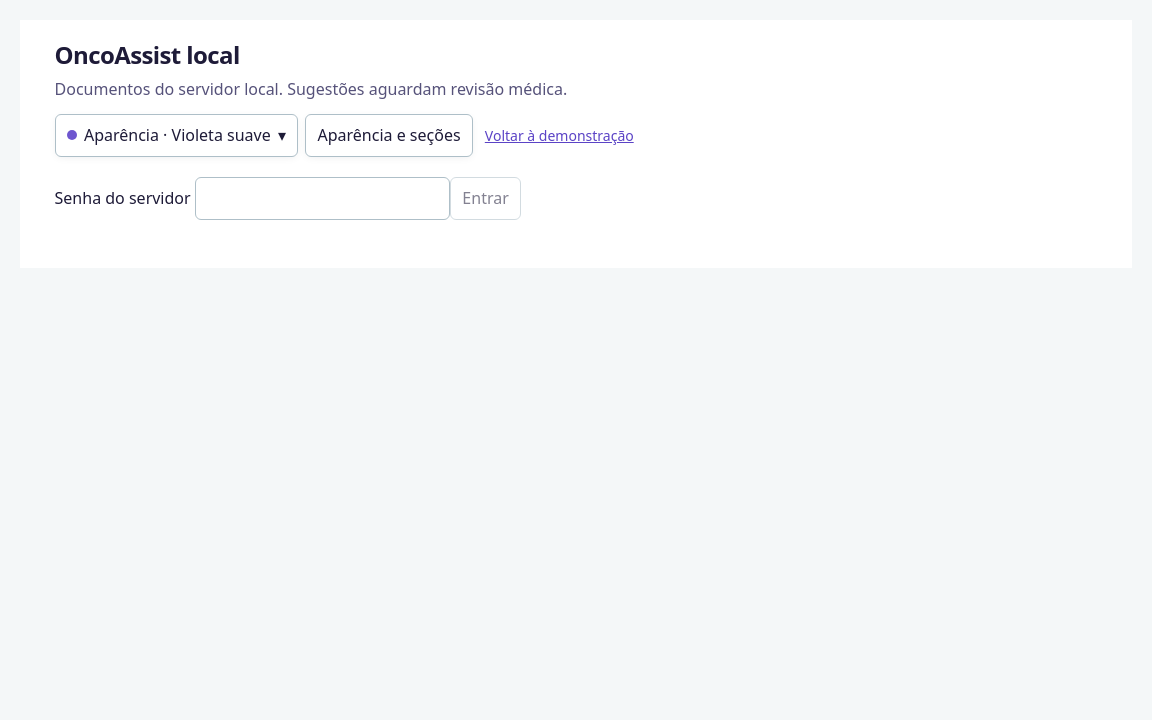
navegação com transcrição não salva › expiração forçada limpa texto sem pedir confirmação
Type "senha-sintetica-para-teste" into the password field labelled "Senha do servidor" at (322, 198), box x1=195 y1=177 x2=450 y2=220
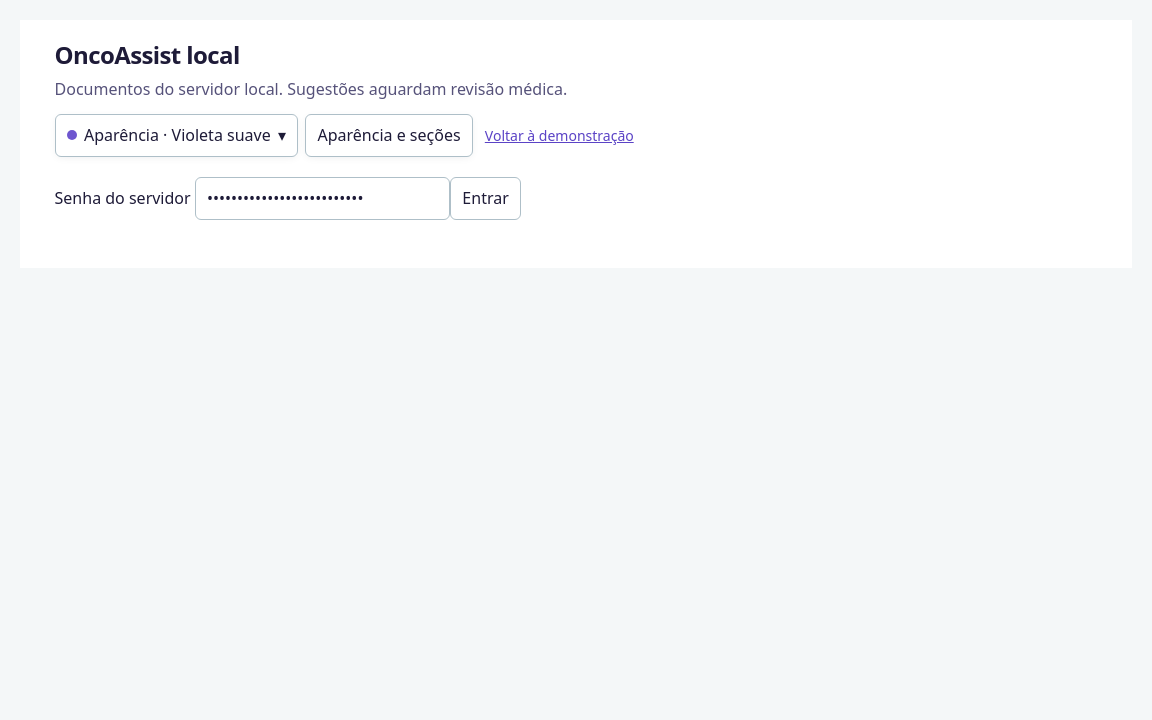
Click the button "Entrar" at (486, 198), box x1=450 y1=177 x2=521 y2=220
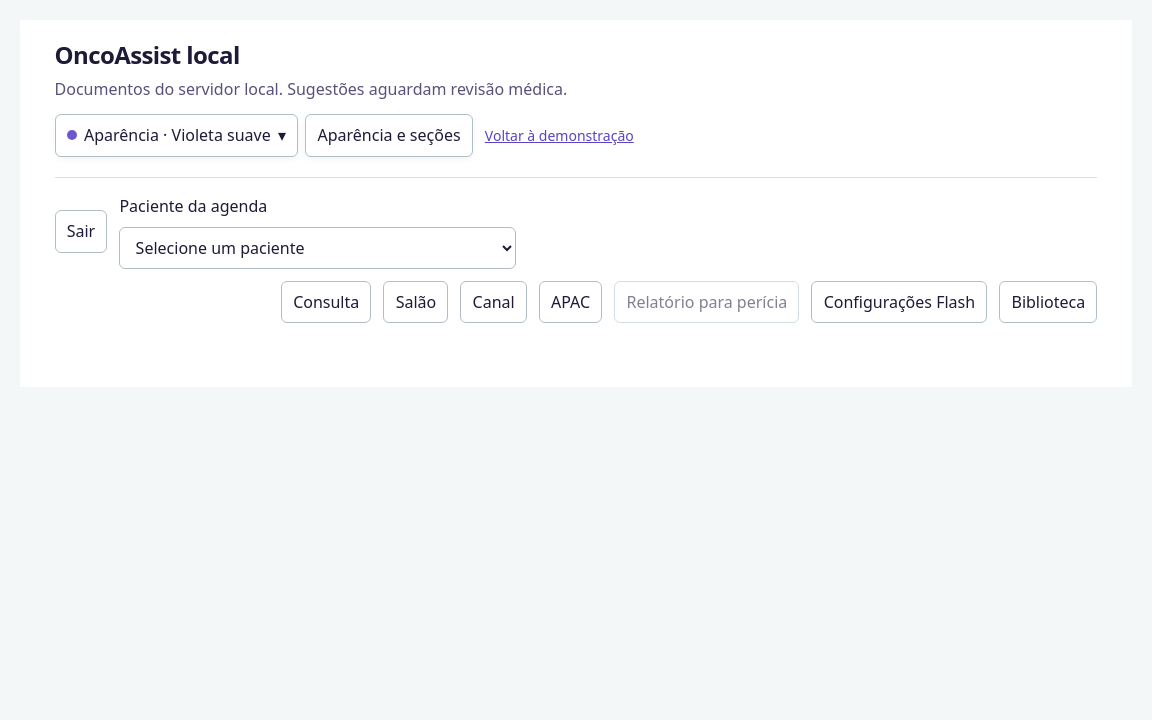
Select "11:00 — Paciente Teste 05" in the dropdown labelled "Paciente da agenda" at (318, 248), box x1=119 y1=227 x2=516 y2=269
(page scrolled)
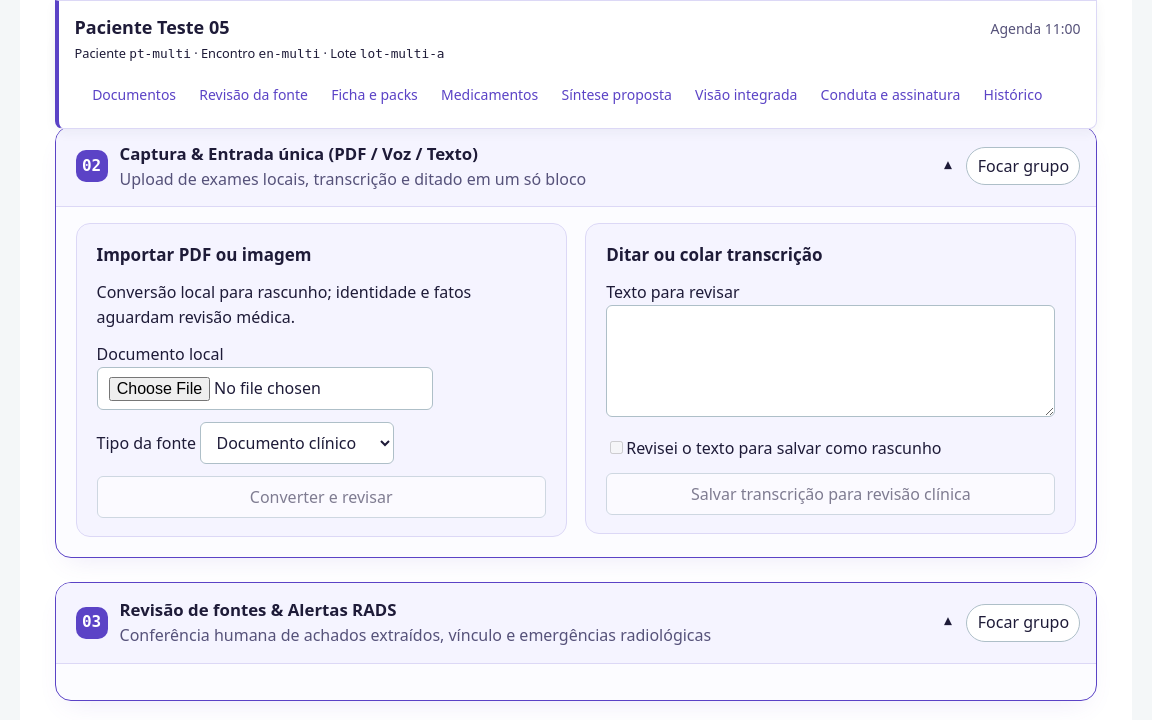
expect the text box named "Texto da transcrição" is shown: met
Type "texto sintético confidencial" into the text box named "Texto da transcrição" at (831, 361), box x1=606 y1=305 x2=1056 y2=417
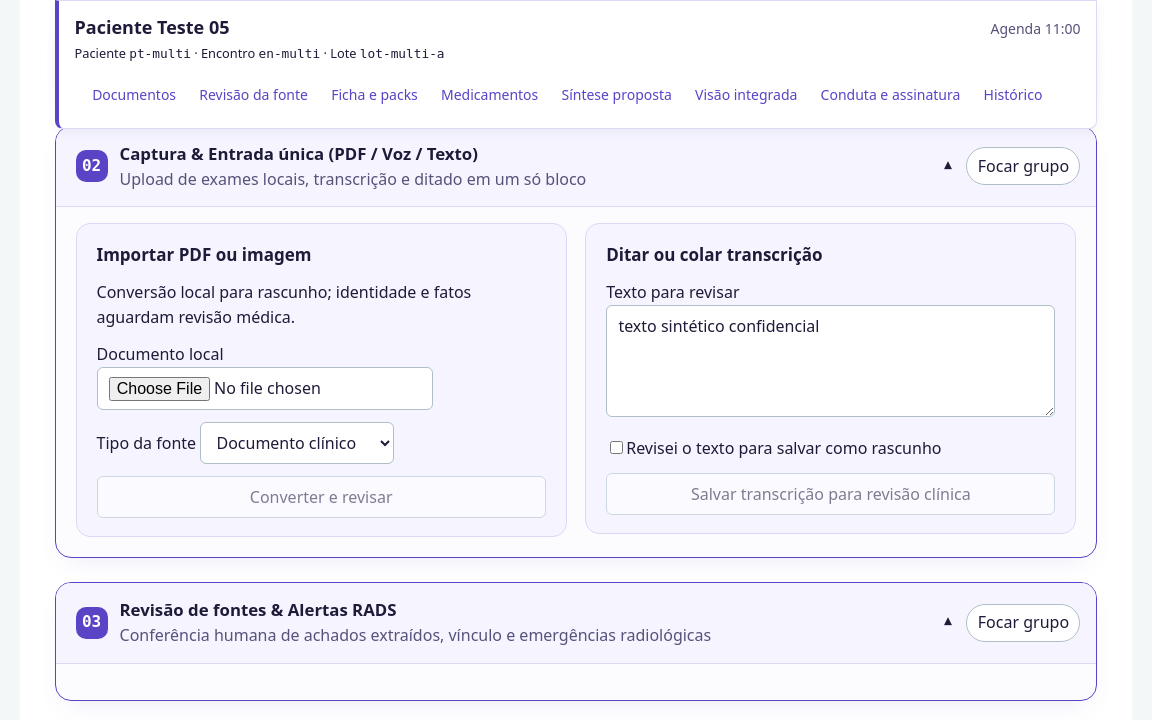
Click the checkbox labelled "Revisei o texto para salvar como rascunho" at (617, 447), box x1=610 y1=441 x2=623 y2=454
(page scrolled)
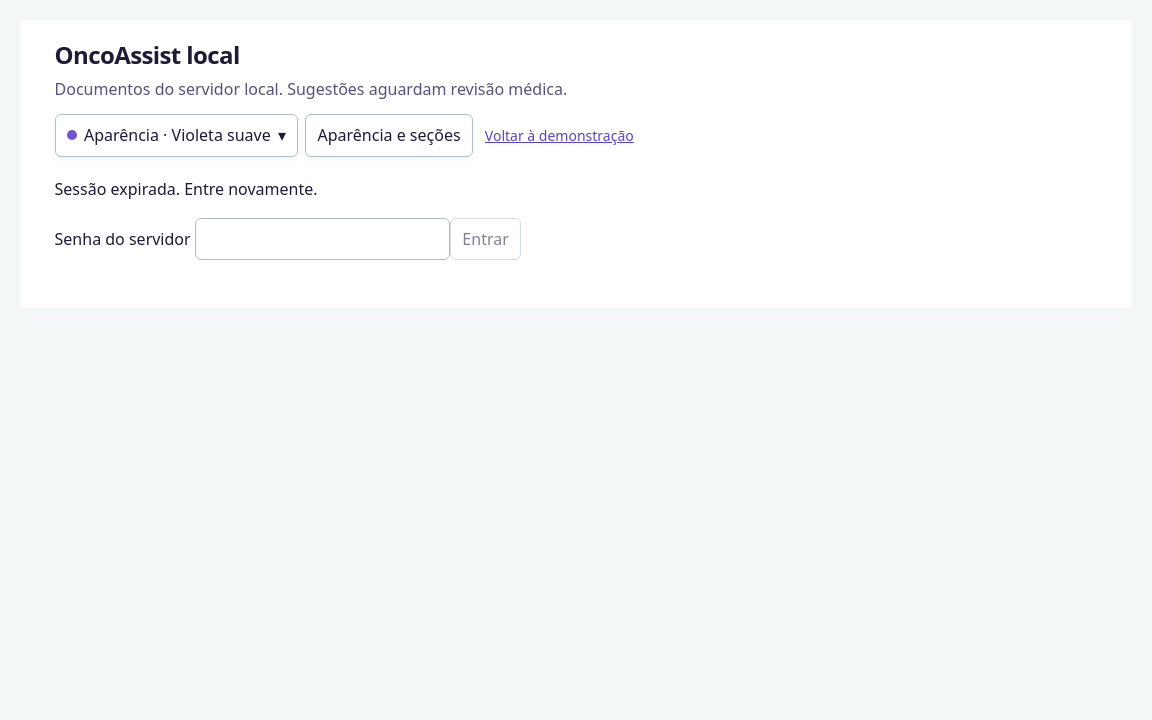
expect the text "Sessão expirada. Entre novamente." is shown: met, box x1=54 y1=178 x2=318 y2=200
